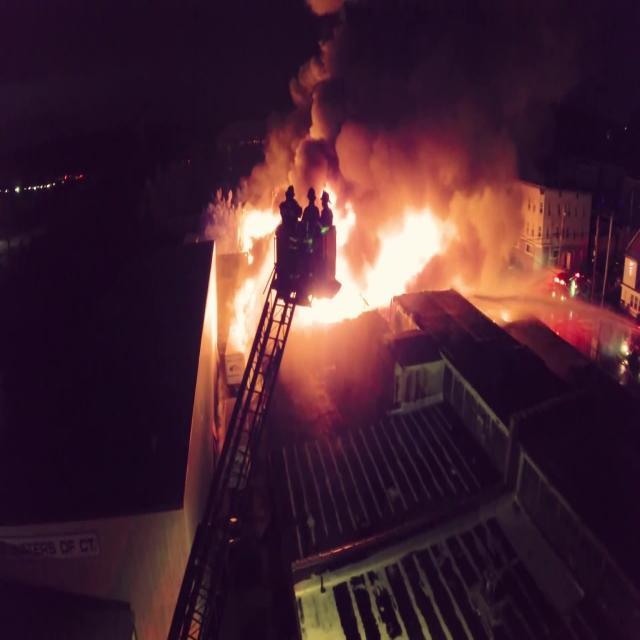Fire: (228, 180, 460, 336)
Smoke: (238, 28, 564, 245), (336, 190, 337, 200)
